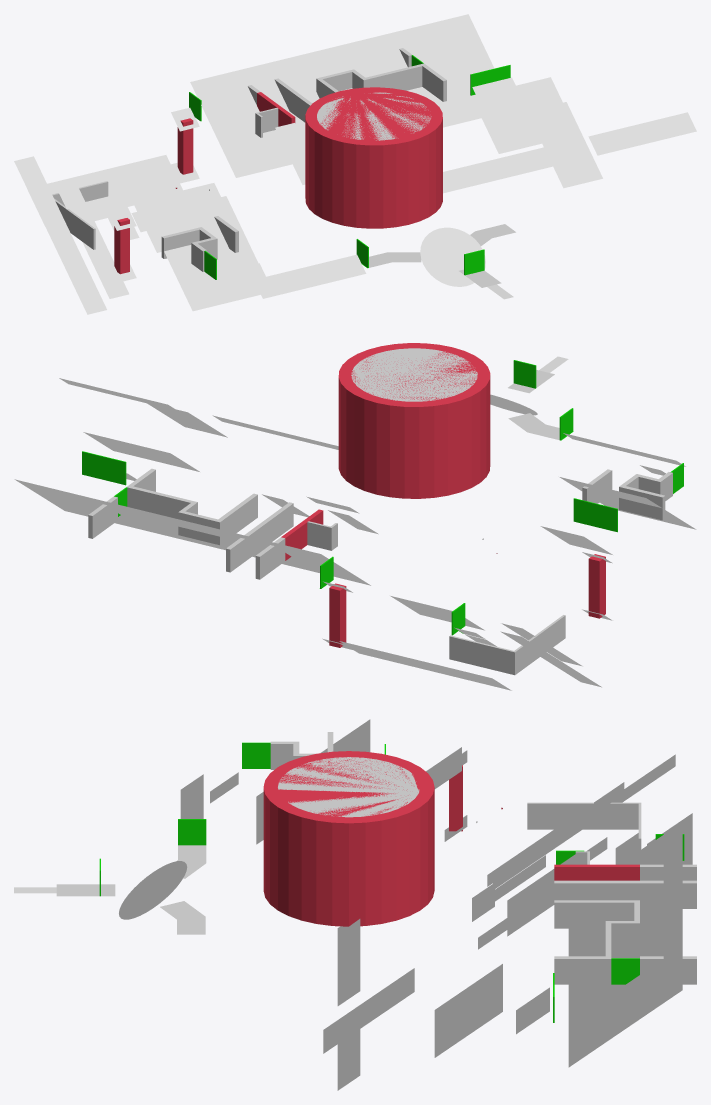
File: gamemap.fbx
3 views of the same model, one above another, from view 1: azimuth 30°, elevation 25°; view 2: azimuth 150°, elevation 25°; view 3: azimuth 270°, elevation 25° (orthographic). The views are drawn at different scales.
Parts seen in each view (by area): view 1: Cylinder.002, Cube.032, Cube.002, Cube.046, Cube.018, Cube.047, Cube.019, Cylinder, Cube.048, Cube, Cube.051, Cylinder.001 (+14 smaller); view 2: Cylinder.002, Cylinder.001, Cube.032, Cube.030, Cube.014, Cube.019, Cube.040, Cube.022, Cube.046, Cube.002, door, Cube.039 (+16 smaller); view 3: Cylinder.002, Cube.032, Cylinder.001, Cube.046, Cube.022, Cube.030, Cube.036, Cube.047, Cylinder, Cube.048, Cube.013, Cube.041 (+19 smaller).
Boxes of the visible parts, x1=… form: Cylinder.002: x1=175, y1=87, x2=442, y2=228; Cube.032: x1=190, y1=14, x2=494, y2=177; Cube.002: x1=147, y1=196, x2=260, y2=311; Cube.046: x1=471, y1=77, x2=562, y2=153; Cube.018: x1=14, y1=156, x2=106, y2=314; Cube.047: x1=527, y1=102, x2=602, y2=188; Cube.019: x1=28, y1=155, x2=182, y2=225; Cylinder: x1=420, y1=227, x2=485, y2=286; Cube.048: x1=443, y1=146, x2=557, y2=193; Cube: x1=254, y1=254, x2=366, y2=298; Cube.051: x1=588, y1=112, x2=696, y2=155; Cylinder.001: x1=209, y1=92, x2=431, y2=190; Cylinder.002: x1=338, y1=343, x2=497, y2=553; Cylinder.001: x1=351, y1=348, x2=483, y2=539; Cube.032: x1=14, y1=479, x2=370, y2=585; Cube.030: x1=226, y1=502, x2=293, y2=572; Cube.014: x1=449, y1=635, x2=516, y2=675; Cube.019: x1=339, y1=641, x2=511, y2=690; Cube.040: x1=126, y1=485, x2=192, y2=518; Cube.022: x1=514, y1=615, x2=565, y2=673; Cube.046: x1=83, y1=432, x2=199, y2=471; Cube.002: x1=559, y1=477, x2=696, y2=529; door: x1=573, y1=498, x2=617, y2=532; Cube.039: x1=82, y1=451, x2=126, y2=485; Cylinder.002: x1=263, y1=751, x2=502, y2=926; Cube.032: x1=568, y1=822, x2=682, y2=1067; Cylinder.001: x1=278, y1=757, x2=477, y2=822; Cube.046: x1=434, y1=964, x2=502, y2=1057; Cube.022: x1=527, y1=802, x2=638, y2=829; Cube.030: x1=554, y1=880, x2=696, y2=908; Cube.036: x1=554, y1=900, x2=639, y2=928; Cube.047: x1=323, y1=968, x2=414, y2=1053; Cylinder: x1=119, y1=861, x2=187, y2=919; Cube.048: x1=337, y1=919, x2=360, y2=1005; Cube.013: x1=487, y1=782, x2=624, y2=886; Cube.041: x1=554, y1=956, x2=605, y2=984.
Bounding box in the file's own units: 110000 × 35566 × 95800.
